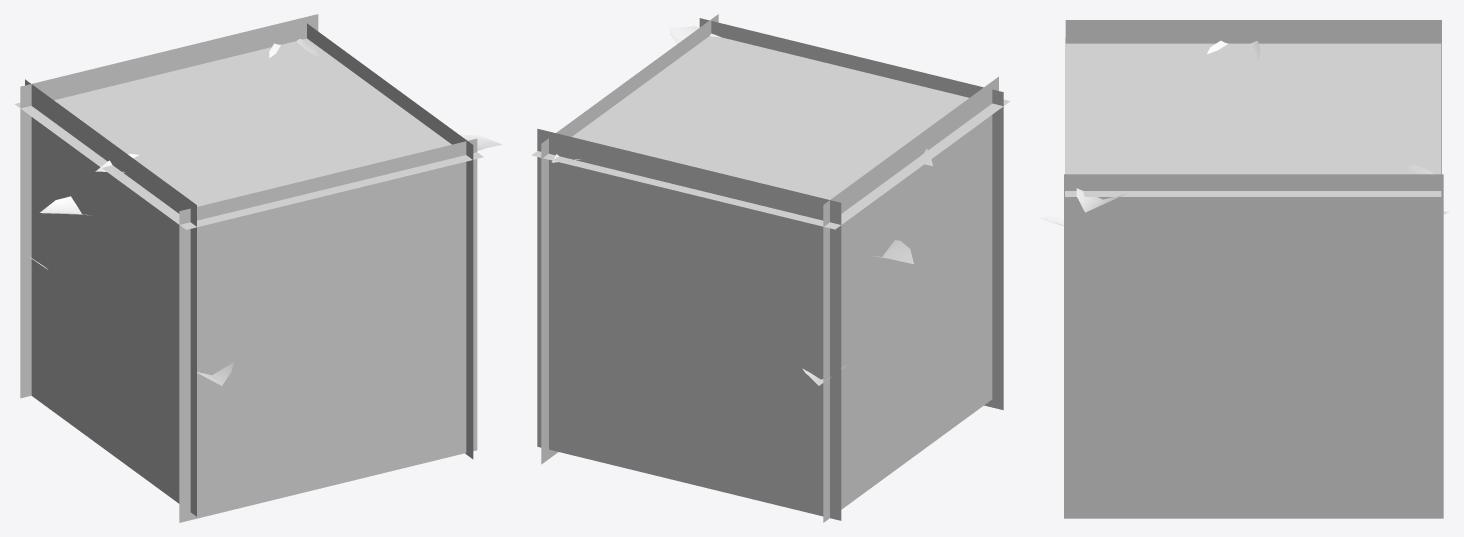
The model's file is SM_Bush.FBX.
3 views of the same model, side by side, from view 1: azimuth 30°, elevation 25°; view 2: azimuth 150°, elevation 25°; view 3: azimuth 270°, elevation 25° (orthographic). The views are drawn at different scales.
Parts seen in each view (by area): view 1: CoverBush, Bush; view 2: CoverBush, Bush; view 3: CoverBush, Bush.
Boxes of the visible parts, left/top/right/bottom form: CoverBush: left=14, top=14, right=483, bottom=522; Bush: left=30, top=39, right=502, bottom=385; CoverBush: left=531, top=14, right=1010, bottom=522; Bush: left=551, top=26, right=932, bottom=385; CoverBush: left=1064, top=20, right=1443, bottom=518; Bush: left=1040, top=40, right=1448, bottom=226.
Bounding box in the file's own units: 133 × 116 × 123.
1 material, 1 textured.
